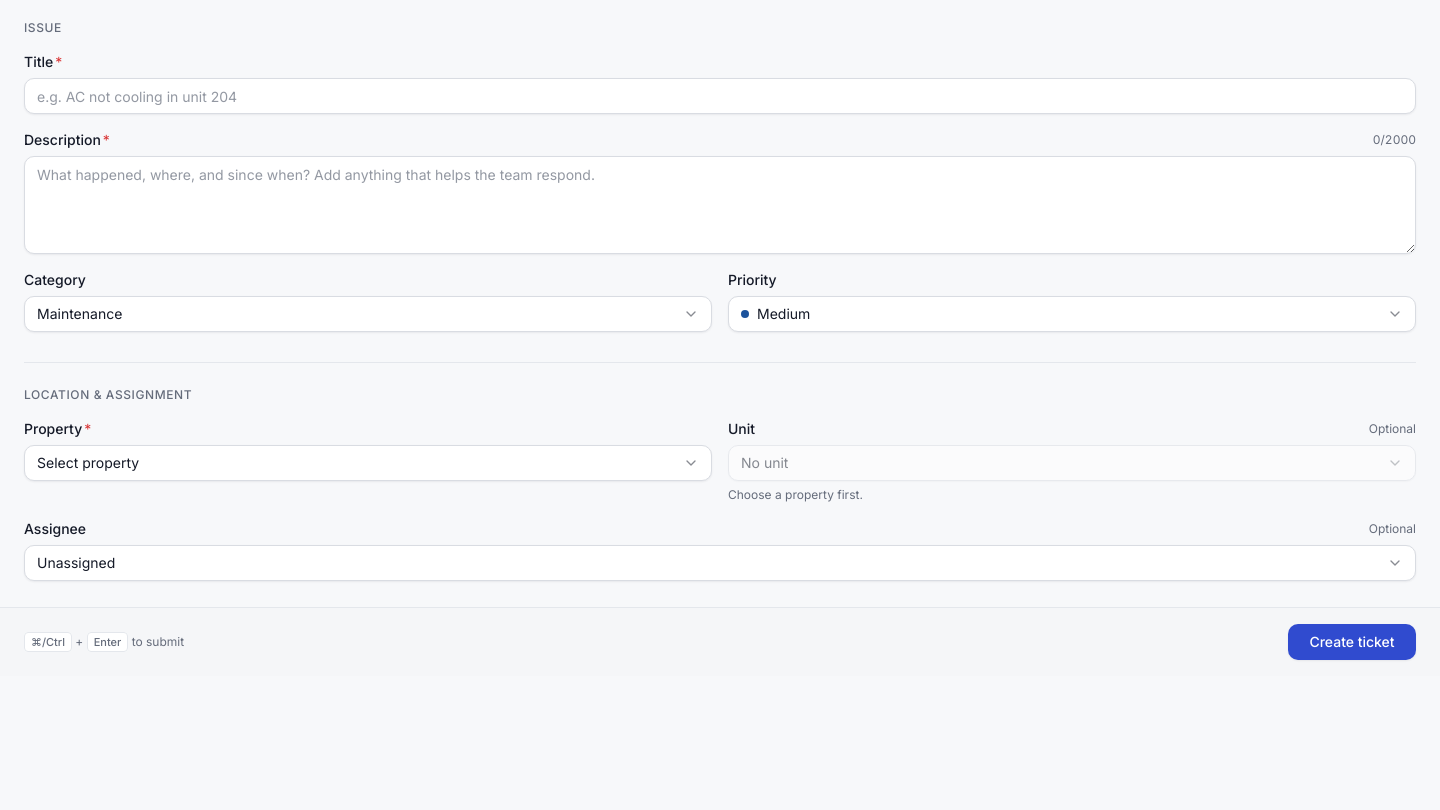
Test: Ticket form validation › shows validation errors for empty required fields
Click the button "Create ticket" at (1352, 642), box [1288, 624, 1416, 660]
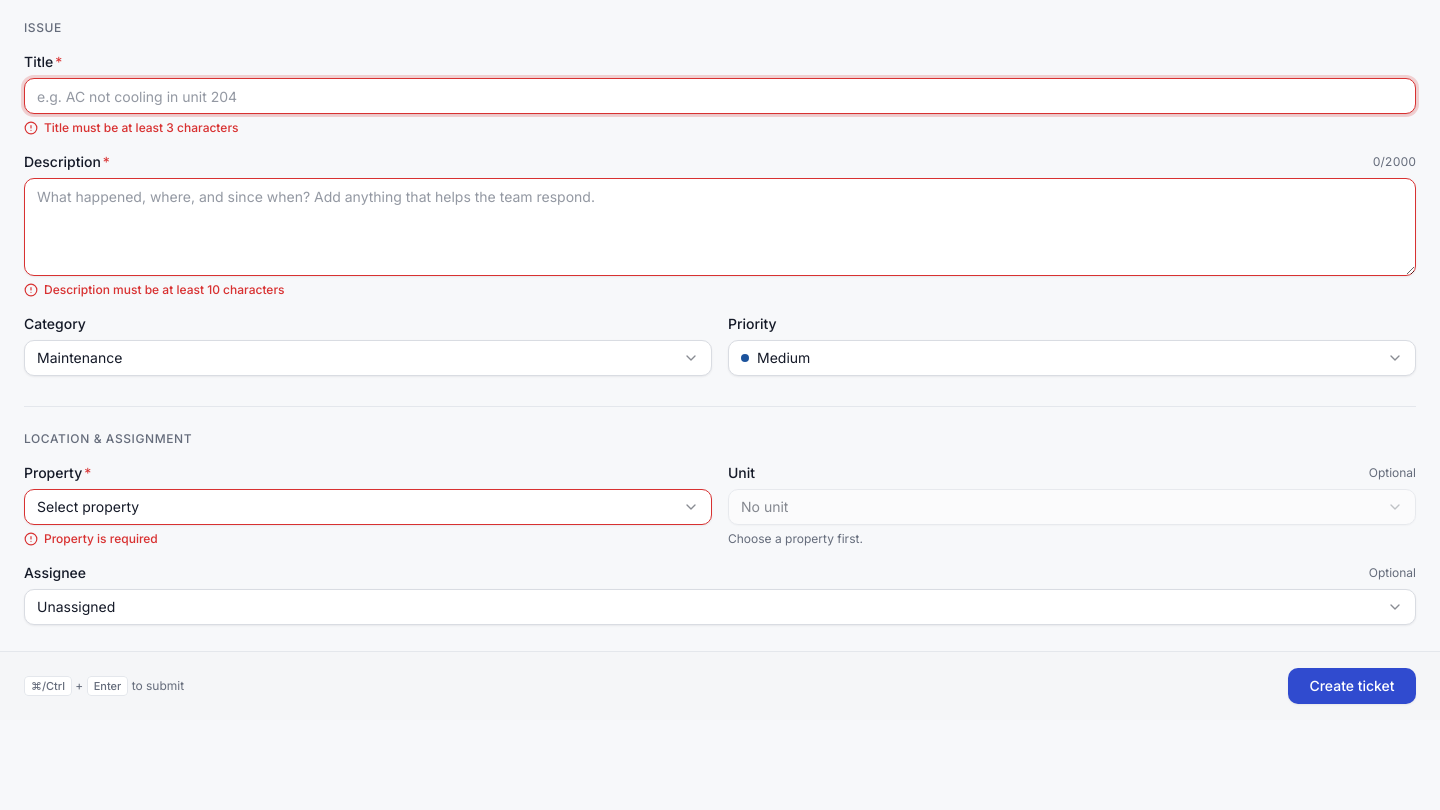
Check: the text "Title must be at least 3 characters" is shown, box [24, 120, 238, 135]
Check: the text "Description must be at least 10 characters" is shown, box [24, 282, 284, 297]
Check: the text "Property is required" is shown, box [24, 531, 158, 546]
